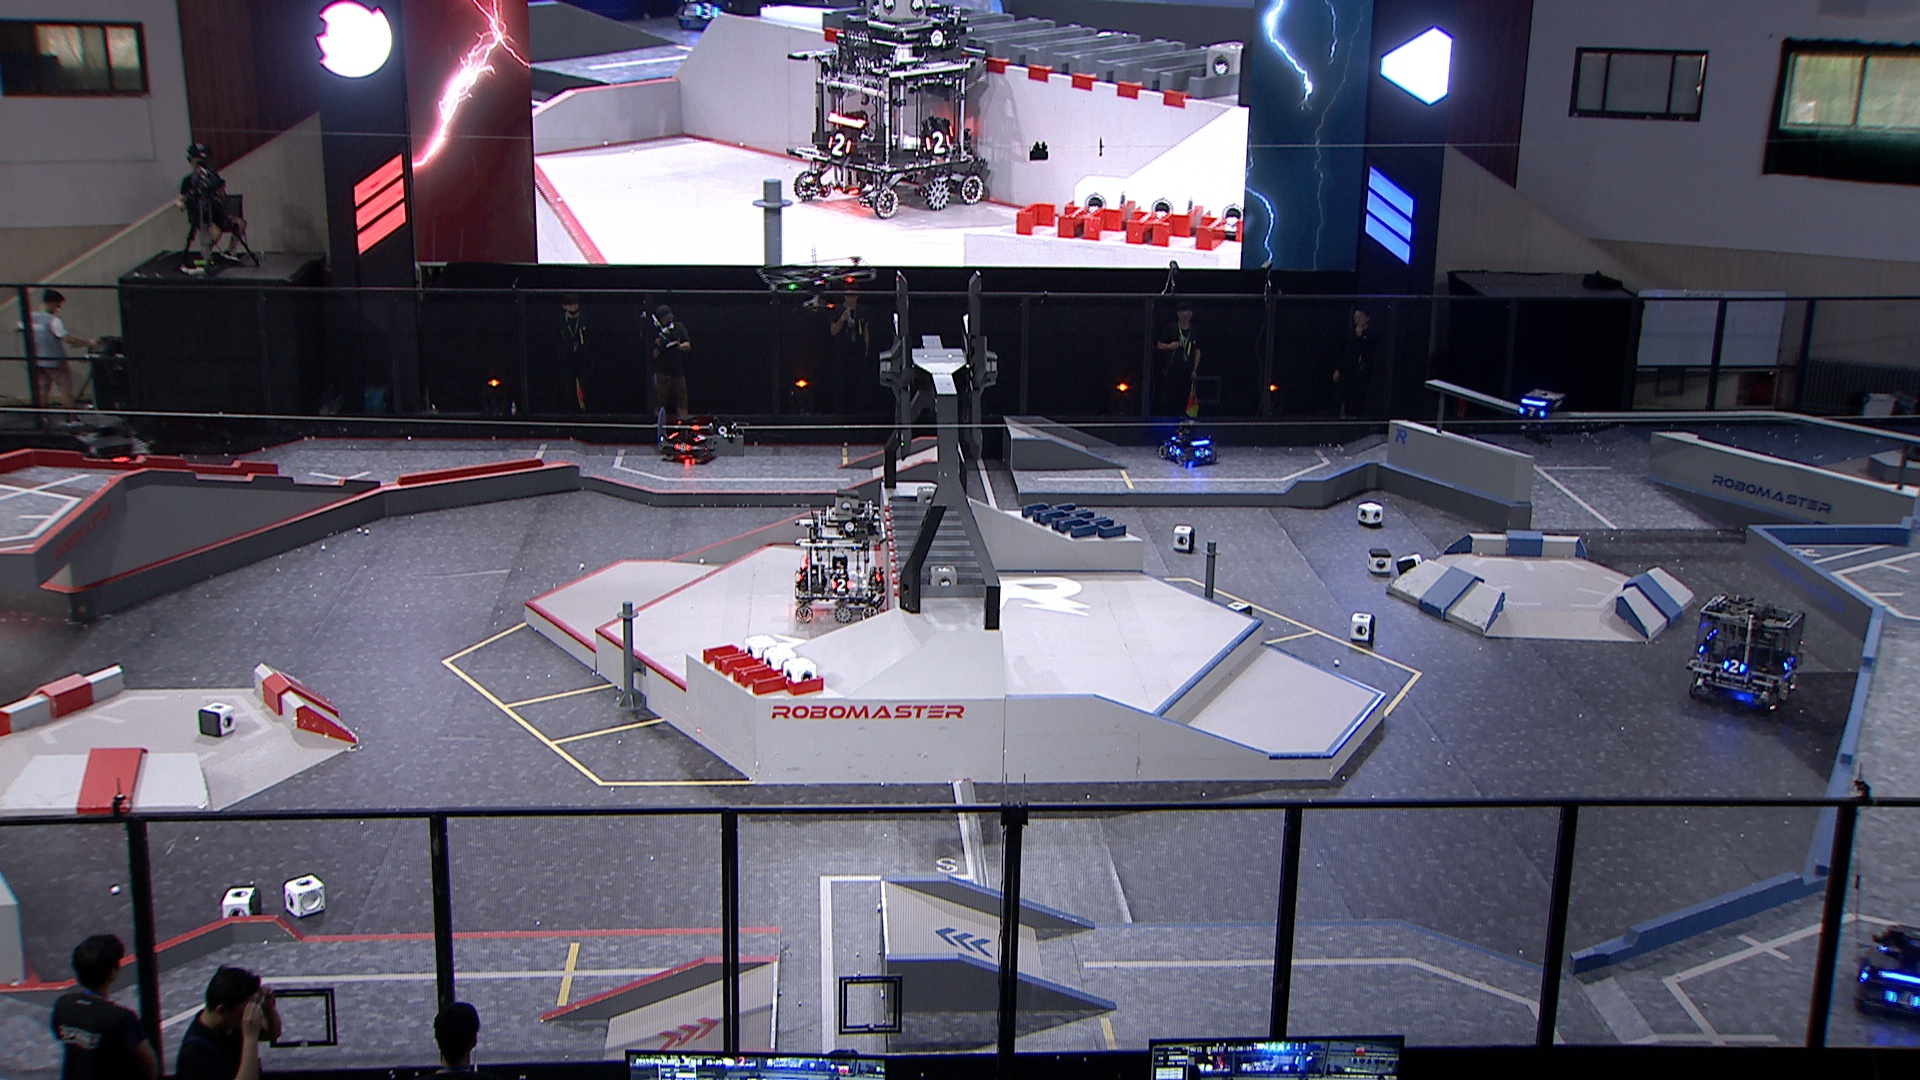armor: (1884, 986, 1920, 1014), (1722, 657, 1747, 675), (1516, 405, 1548, 419), (829, 578, 855, 595), (1782, 655, 1797, 673), (1193, 447, 1211, 462), (1164, 443, 1182, 458), (673, 442, 694, 452)
car: (1680, 595, 1813, 711), (787, 489, 889, 622), (65, 413, 158, 498), (1854, 922, 1920, 1025), (1155, 419, 1218, 465), (659, 410, 716, 462)
ignore: (674, 0, 744, 32)
watcher: (1510, 385, 1567, 447)
